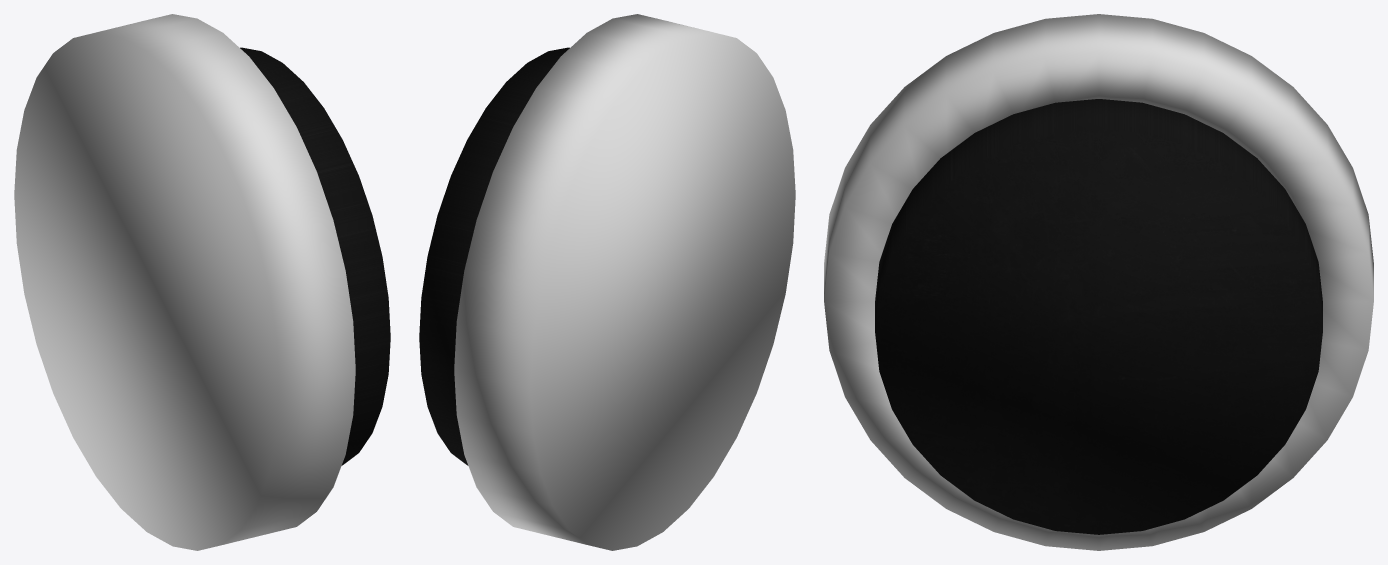
The model's file is CircleButton.fbx.
3 views of the same model, side by side, from view 1: azimuth 30°, elevation 25°; view 2: azimuth 150°, elevation 25°; view 3: azimuth 270°, elevation 25° (orthographic). The views are drawn at different scales.
Visible parts, largest first — view 1: Cylinder, Cylinder.001; view 2: Cylinder, Cylinder.001; view 3: Cylinder.001, Cylinder.
Boxes of the visible parts, <box> form: Cylinder: <box>14,14,355,550</box>; Cylinder.001: <box>240,47,390,465</box>; Cylinder: <box>454,14,795,550</box>; Cylinder.001: <box>419,47,569,465</box>; Cylinder.001: <box>875,99,1322,534</box>; Cylinder: <box>824,14,1373,550</box>.
Size of the model in its own units: 59.19 by 200 by 200.
Materials: 2 (1 with a texture image).
